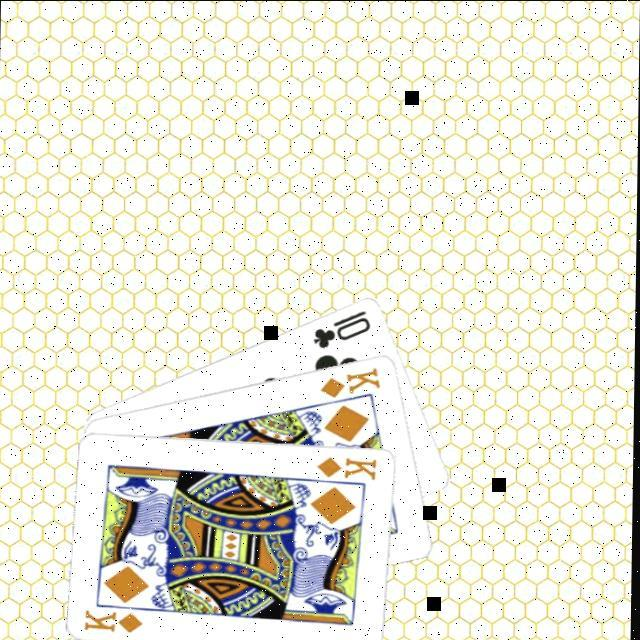10C: (311, 307, 376, 352)
KD: (319, 365, 385, 401), (316, 454, 382, 484), (84, 607, 148, 637)
